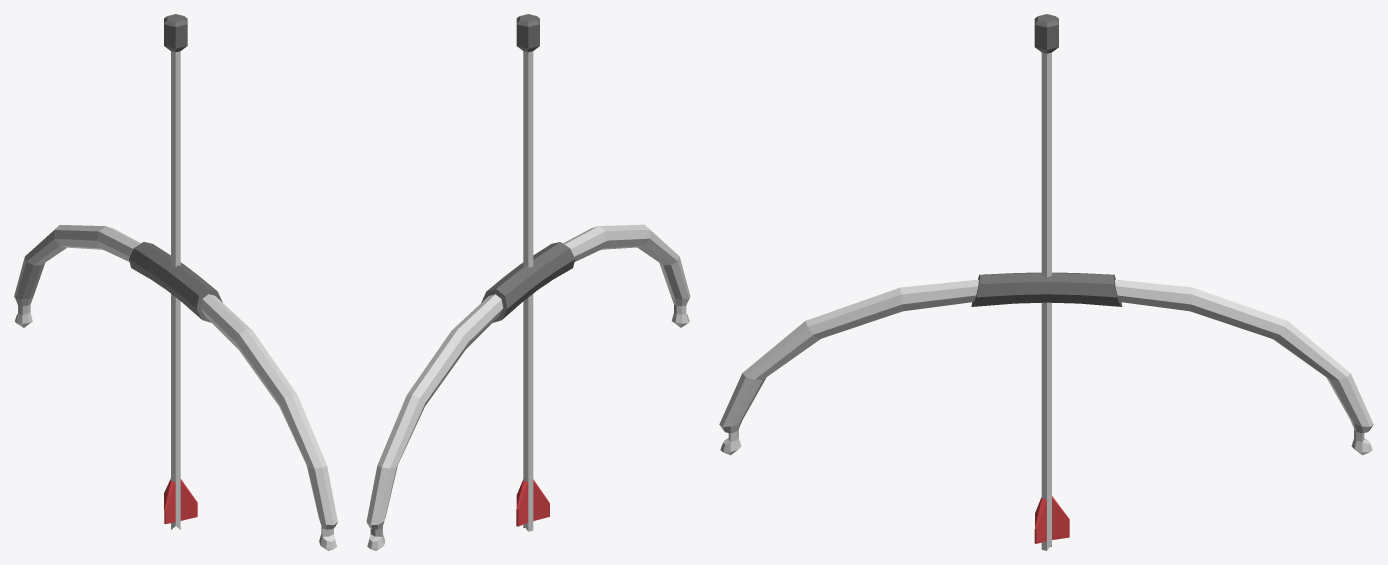
Rendered from Bow.fbx.
3 views of the same model, side by side, from view 1: azimuth 30°, elevation 25°; view 2: azimuth 150°, elevation 25°; view 3: azimuth 270°, elevation 25° (orthographic). The views are drawn at different scales.
Parts seen in each view (by area): view 1: Cylinder, Cube; view 2: Cylinder, Cube; view 3: Cylinder, Cube.
Boxes of the visible parts, x1,y1,x2,y2 form: Cylinder: (14,225,337,550); Cube: (164,14,197,529); Cylinder: (366,224,690,550); Cube: (516,14,549,531); Cylinder: (719,272,1373,455); Cube: (1034,14,1069,550).
Bounding box in the file's own units: 133 × 1947 × 2178.
